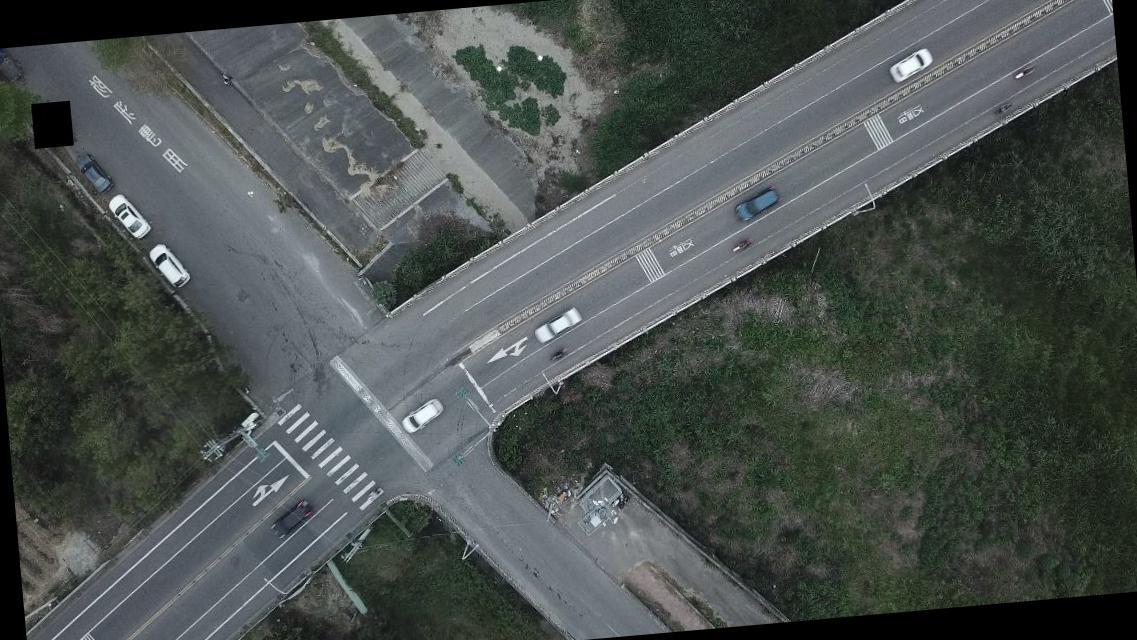vehicle: (106, 192, 152, 242), (146, 240, 190, 290), (530, 307, 582, 346), (728, 188, 781, 224), (886, 46, 936, 83), (268, 502, 315, 539), (400, 399, 446, 434), (76, 152, 112, 195)
